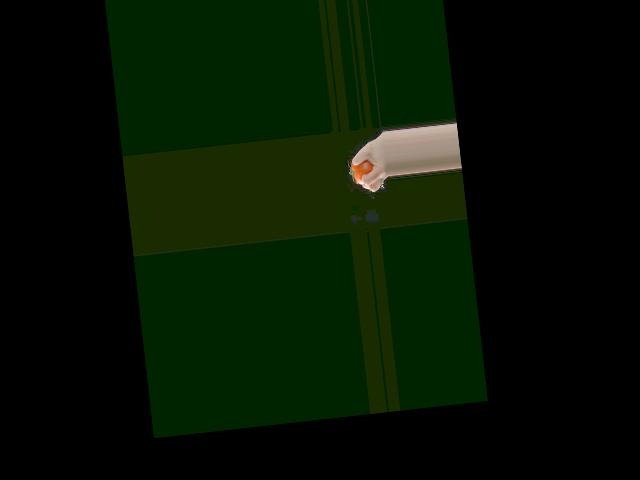tomato: (351, 158, 374, 185)
